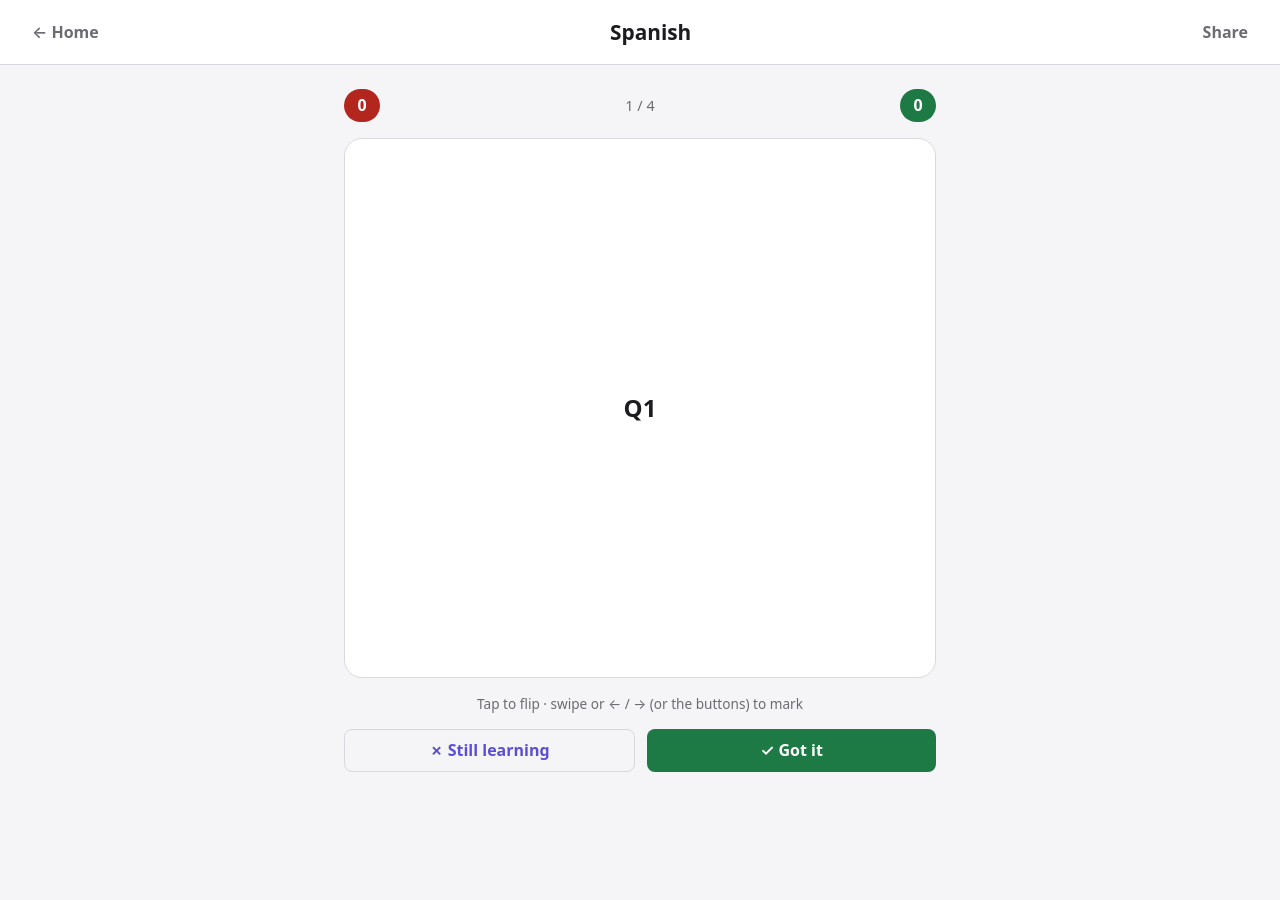
Scenario: PracticePage › a wrong answer resets the in-session streak
This screenshot has width=1280, height=900.
Expected: the text "Q1" is shown, [624, 391, 656, 424]
Click the button "✓ Got it" at (792, 750), box [647, 729, 936, 772]
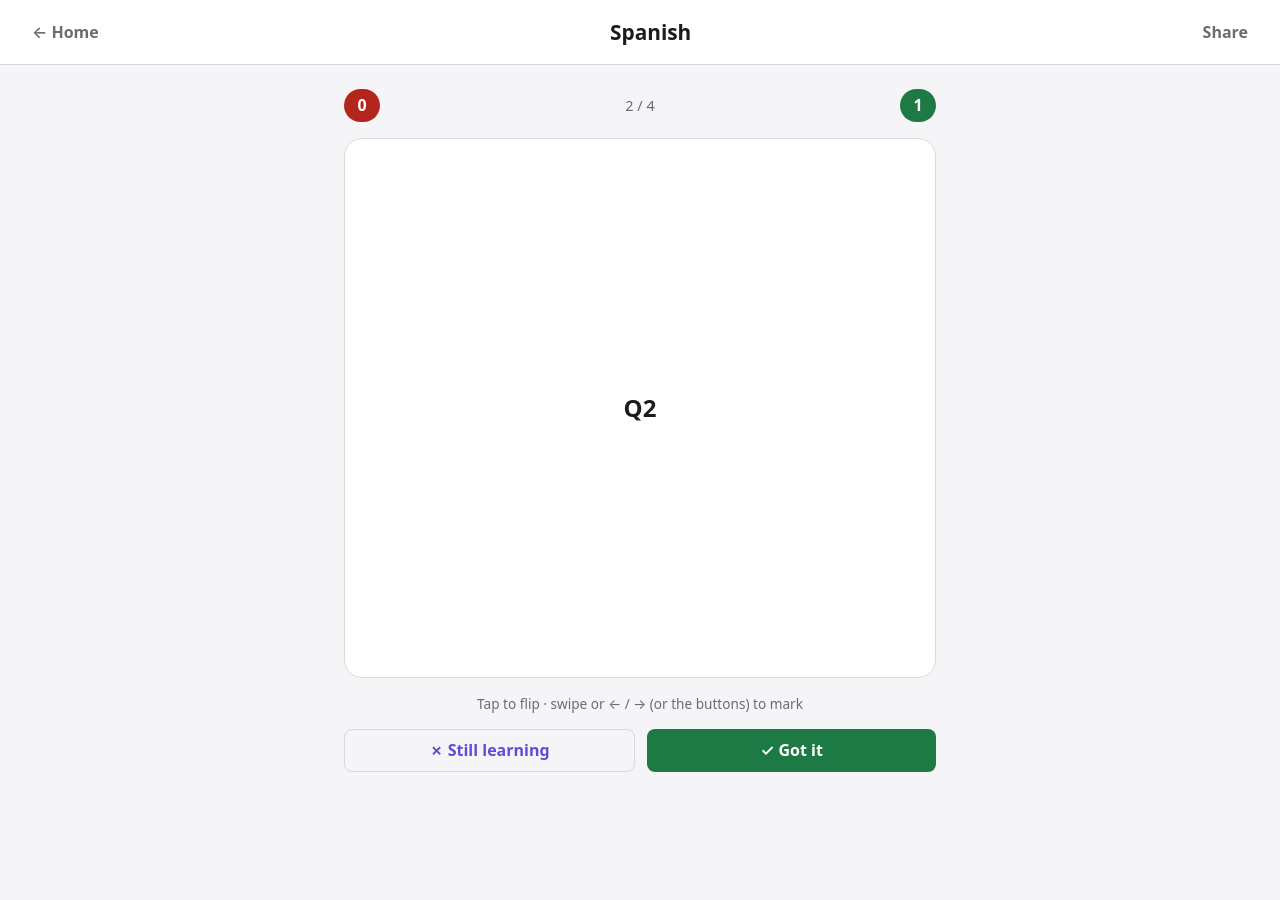
Result: the text "Q2" is shown at [624, 391, 656, 424]
Click the button "✓ Got it" at (792, 750), box [647, 729, 936, 772]
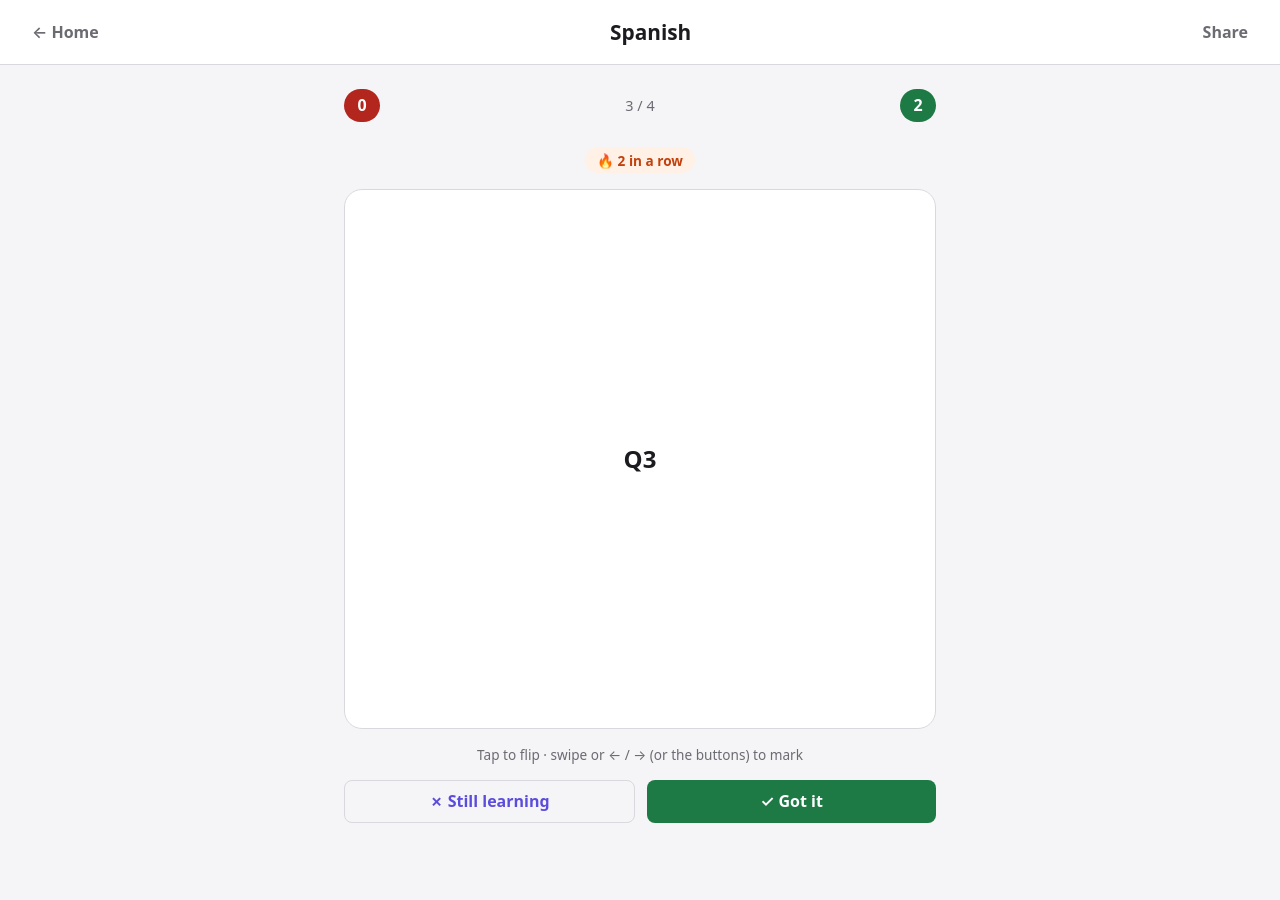
Result: the text "🔥 2 in a row" is shown at [585, 147, 695, 173]
Result: the text "Q3" is shown at [624, 442, 656, 475]
Click the button "✗ Still learning" at (490, 801), box [344, 780, 635, 823]
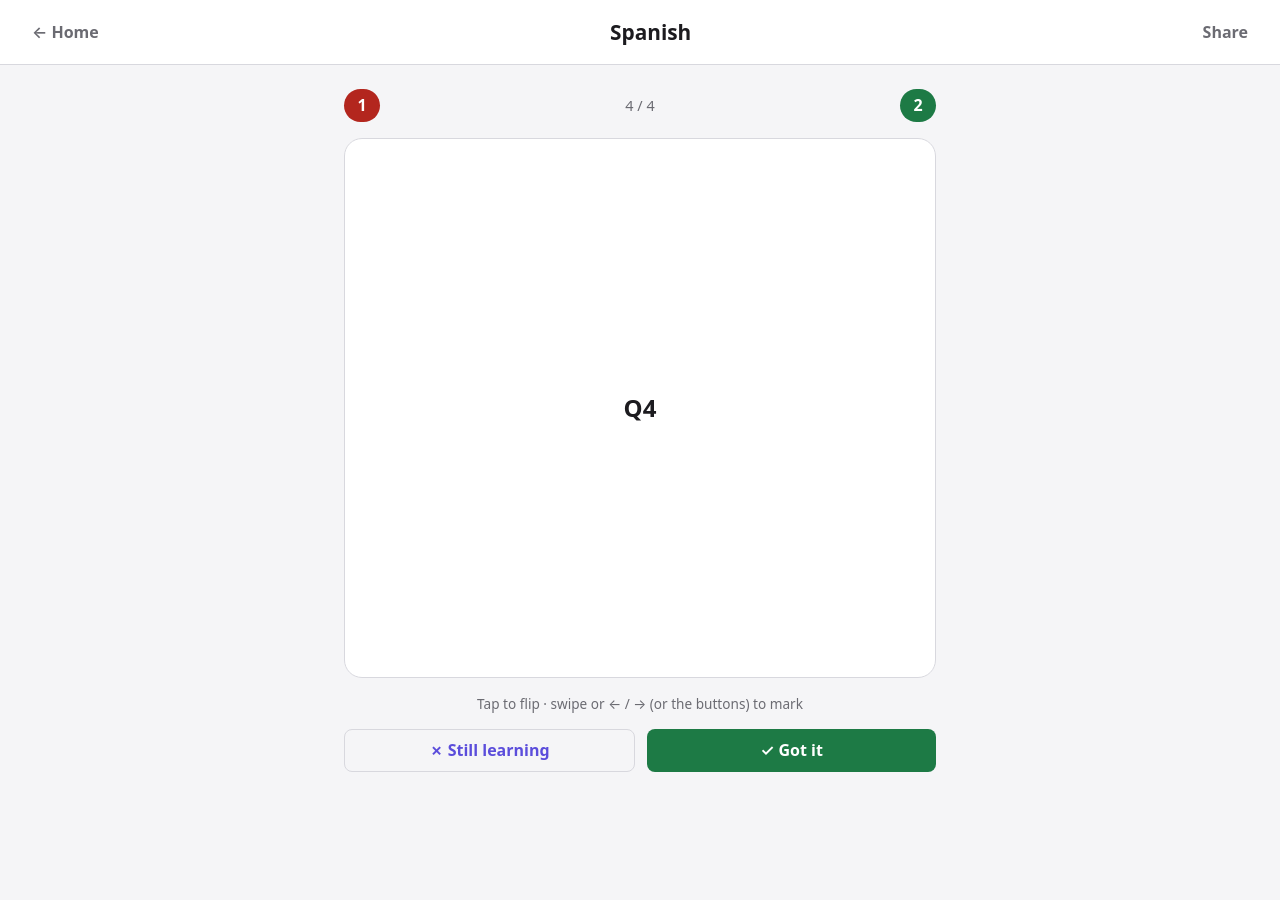
Result: the text "Q4" is shown at [624, 391, 656, 424]
Result: the text "in a row" is gone
